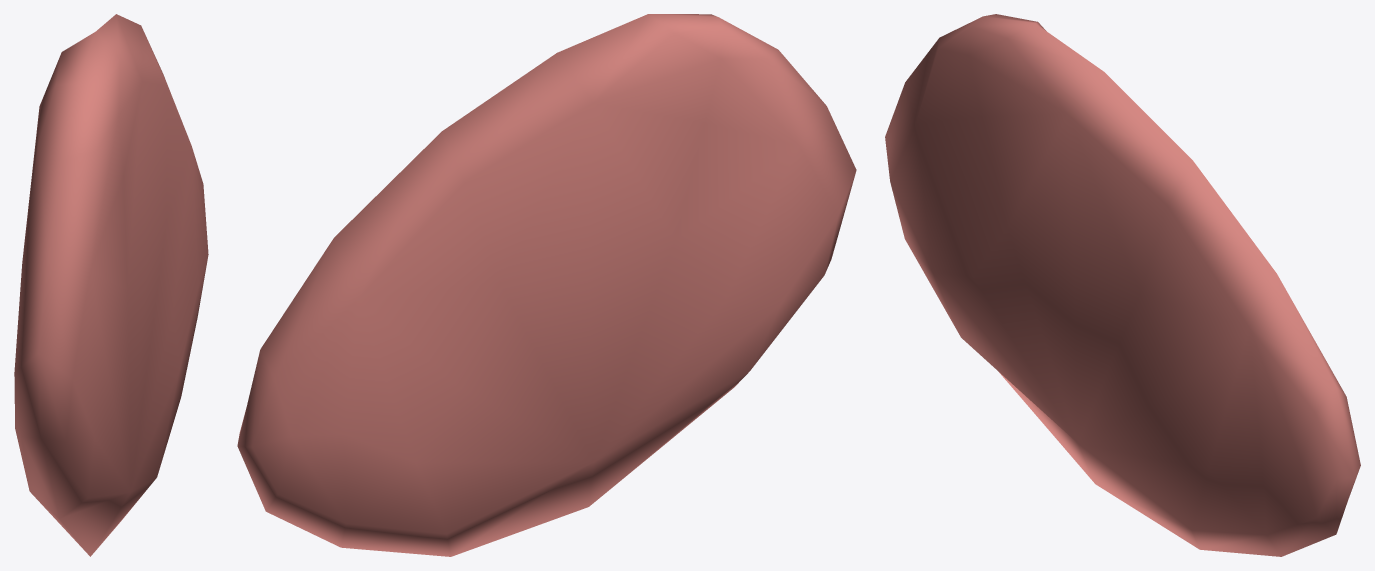
The picture shows the model from 3 angles, left to right: view 1: azimuth 30°, elevation 25°; view 2: azimuth 150°, elevation 25°; view 3: azimuth 270°, elevation 25°; orthographic projection. The views are drawn at different scales.
Visible parts, largest first — view 1: ZA_577b43e90e4c42fe; view 2: ZA_577b43e90e4c42fe; view 3: ZA_577b43e90e4c42fe.
Boxes of the visible parts, x1=… form: ZA_577b43e90e4c42fe: x1=14, y1=14, x2=208, y2=556; ZA_577b43e90e4c42fe: x1=237, y1=14, x2=856, y2=556; ZA_577b43e90e4c42fe: x1=885, y1=14, x2=1360, y2=556.
Size of the model in its own units: 0.00281 by 0.00359 by 0.00325.
